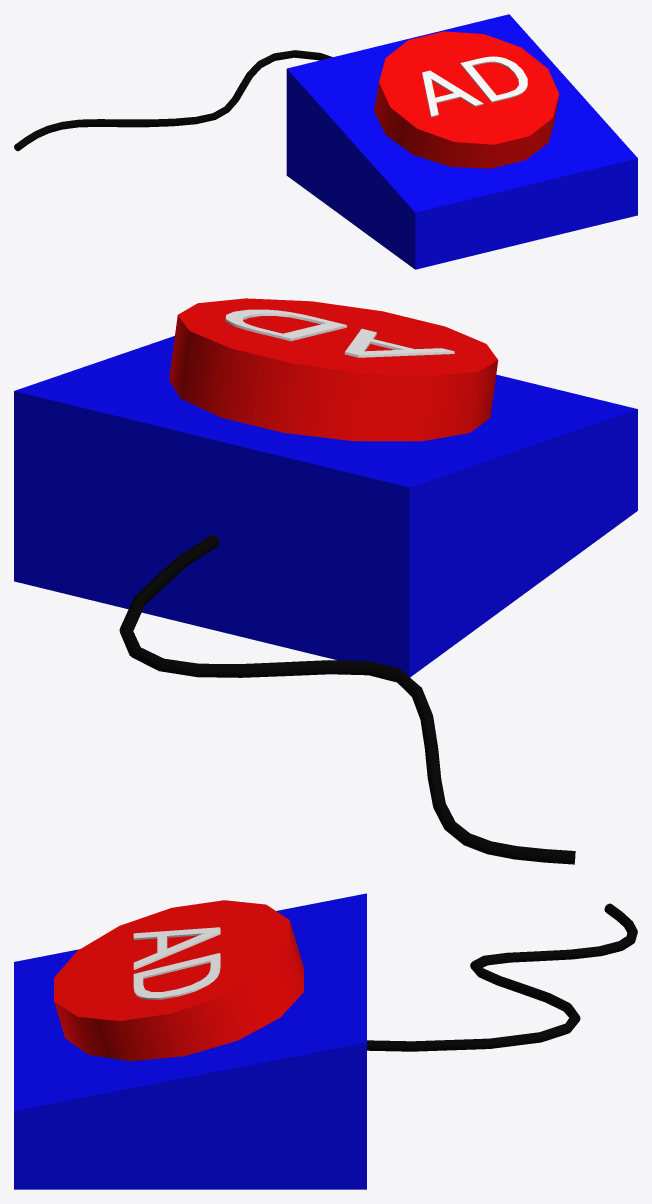
File: button_v2.fbx
3 renders of one model, top to bottom at view 1: azimuth 30°, elevation 25°; view 2: azimuth 150°, elevation 25°; view 3: azimuth 270°, elevation 25°, orthographic. The views are drawn at different scales.
Parts seen in each view (by area): view 1: base, button, wire, ad; view 2: base, button, wire, ad; view 3: base, button, wire, ad.
Part boxes in pixels (bbox=[...]): base: bbox=[286, 14, 637, 269]; button: bbox=[374, 31, 559, 168]; wire: bbox=[14, 50, 332, 151]; ad: bbox=[422, 56, 527, 117]; base: bbox=[14, 336, 637, 677]; button: bbox=[169, 298, 498, 441]; wire: bbox=[119, 535, 575, 864]; ad: bbox=[225, 309, 454, 357]; base: bbox=[14, 893, 366, 1189]; button: bbox=[54, 900, 303, 1061]; wire: bbox=[367, 903, 637, 1051]; ad: bbox=[133, 927, 220, 999].
Bounding box in the file's own units: 295 × 92.93 × 287.
